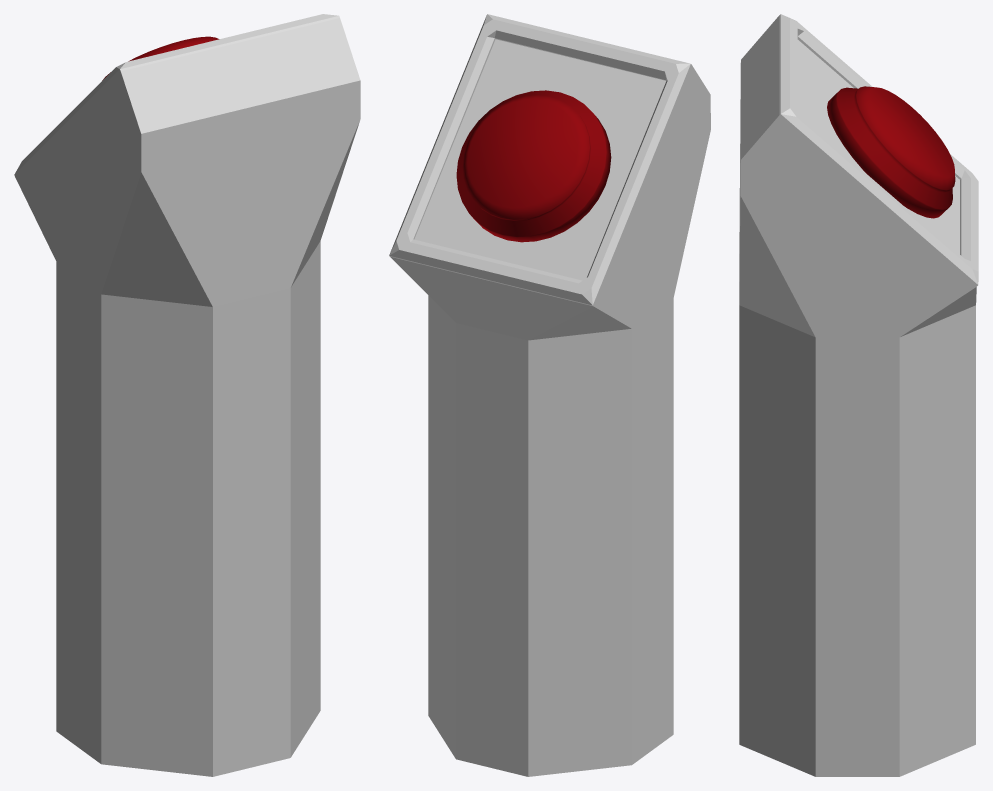
Rendered from Button.fbx.
3 views of the same model, side by side, from view 1: azimuth 30°, elevation 25°; view 2: azimuth 150°, elevation 25°; view 3: azimuth 270°, elevation 25° (orthographic). The views are drawn at different scales.
Parts seen in each view (by area): view 1: Stand; view 2: Stand, Button; view 3: Stand, Button.
Boxes of the visible parts, bbox=[...] form: Stand: bbox=[14, 14, 360, 776]; Stand: bbox=[389, 14, 710, 776]; Button: bbox=[456, 90, 611, 242]; Stand: bbox=[739, 14, 978, 776]; Button: bbox=[827, 86, 955, 218].
Size of the model in its own units: 105 by 326 by 107.
